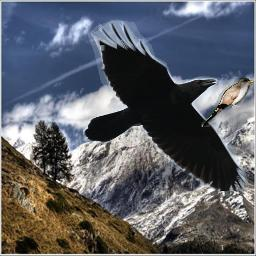Crow: (83, 19, 250, 191)
Cuckoo: (201, 78, 255, 127)
